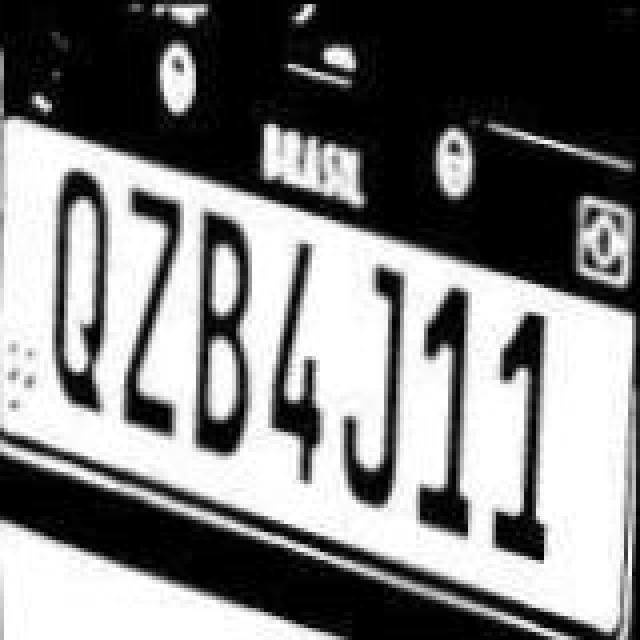1: (414, 274, 482, 550), (484, 308, 556, 568)
4: (256, 228, 332, 492)
B: (186, 194, 258, 478)
J: (342, 254, 410, 514)
Q: (50, 164, 122, 424)
Z: (120, 174, 180, 450)
